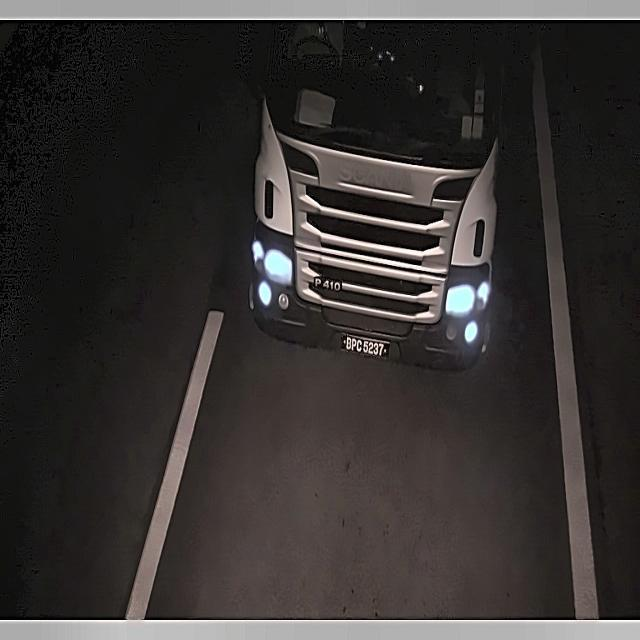car: (343, 324, 387, 365)
